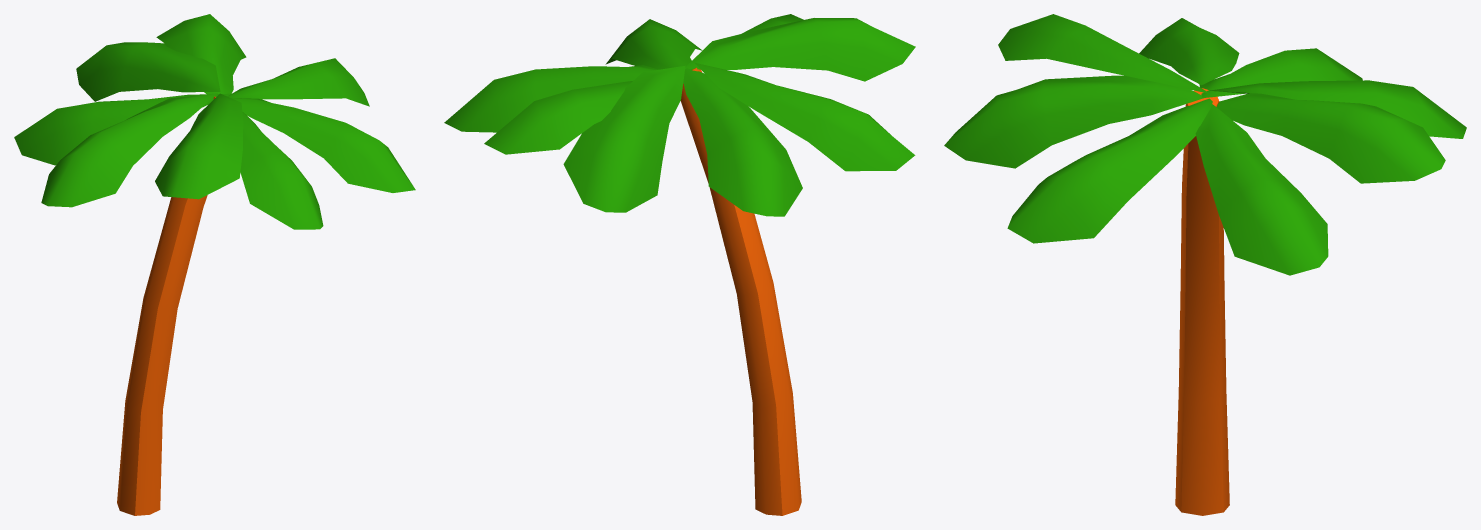
Rendered from Tree_01.FBX.
3 views of the same model, side by side, from view 1: azimuth 30°, elevation 25°; view 2: azimuth 150°, elevation 25°; view 3: azimuth 270°, elevation 25° (orthographic). The views are drawn at different scales.
Visible parts, largest first — view 1: Plane004; view 2: Plane004; view 3: Plane004.
Part boxes in pixels (box(x1,y1,x2,y2)): Plane004: box(14, 14, 415, 515); Plane004: box(444, 14, 915, 515); Plane004: box(944, 14, 1466, 515).
Bounding box in the file's own units: 54.91 × 58.09 × 56.55.
